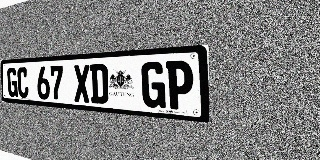6: (37, 66, 50, 100)
7: (49, 65, 64, 101)
C: (17, 67, 29, 98)
D: (90, 64, 108, 104)
G: (141, 61, 166, 109), (7, 67, 18, 97)
P: (166, 60, 193, 111)
X: (73, 64, 90, 103)
